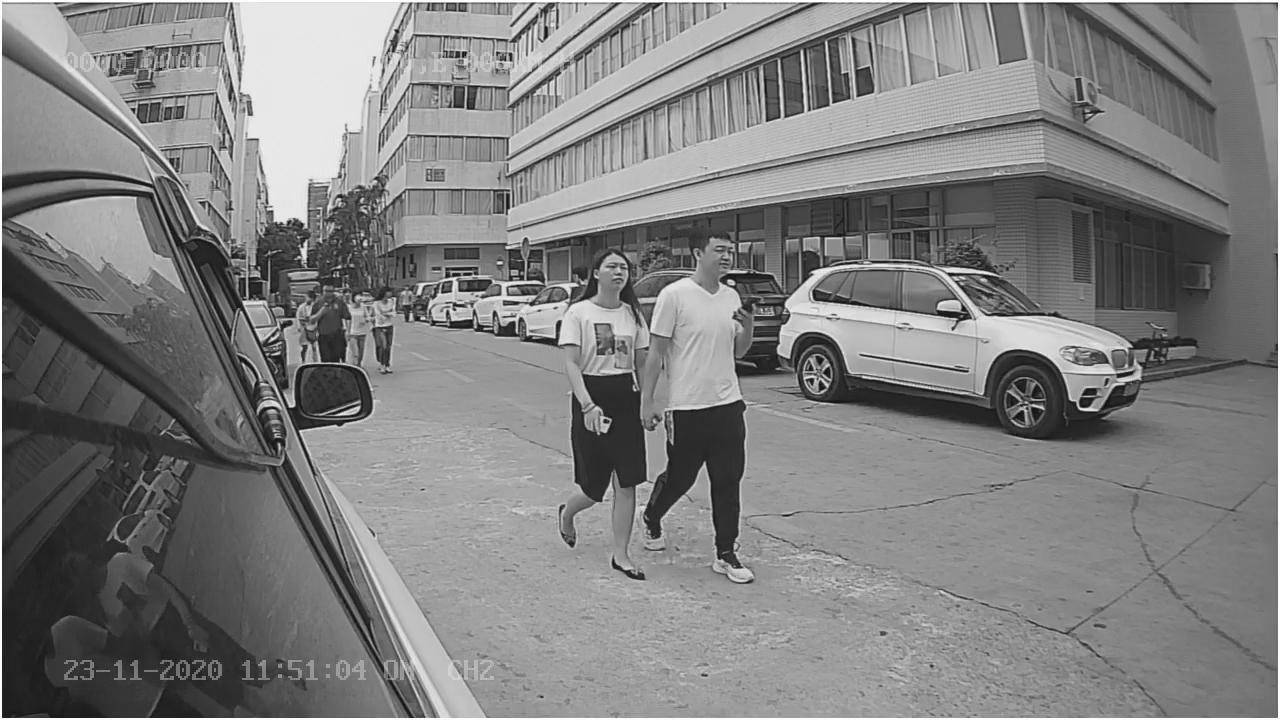person: (550, 246, 674, 581)
